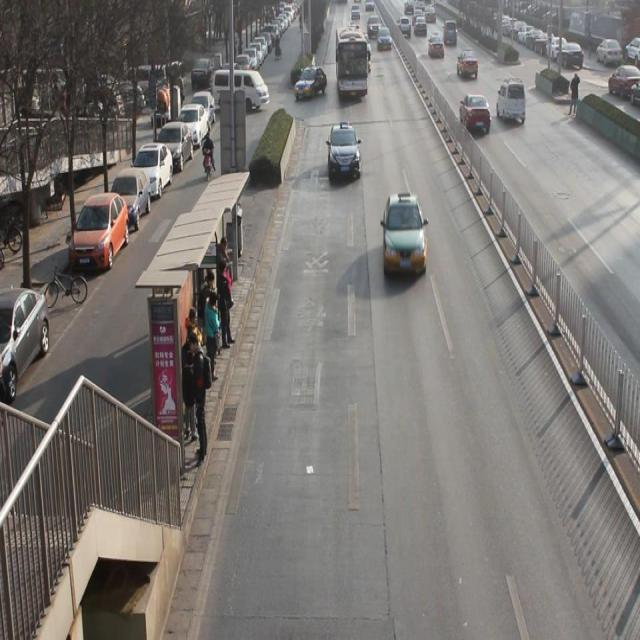car: (382, 195, 429, 277), (328, 124, 363, 182), (497, 80, 528, 130), (460, 92, 493, 136), (299, 62, 325, 99), (456, 50, 481, 78), (428, 33, 446, 61), (377, 27, 394, 52), (359, 45, 373, 74), (444, 20, 459, 46)
van: (335, 25, 367, 98)
